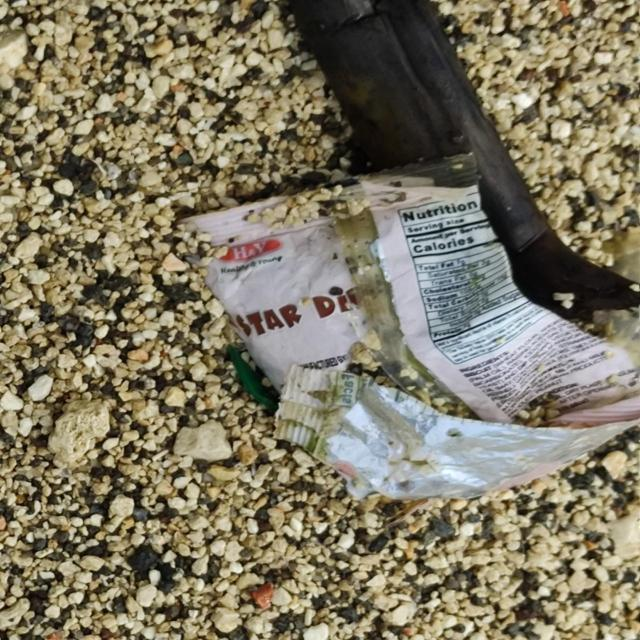litter: (176, 150, 640, 502)
